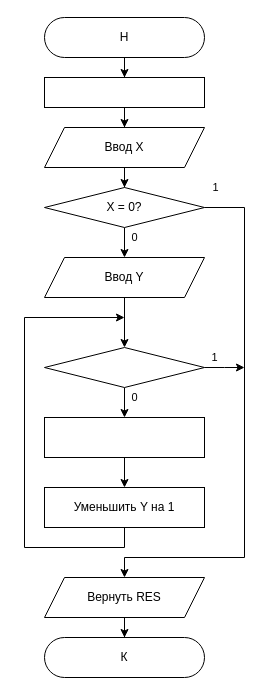
Image size: 270x695. Some labels were removed from this diagram. The centre of each missing label's shape, as x and y in pixels:
RES = 0: (124,92)
RES = RES + X: (124,437)
Y = 0?: (124,367)
